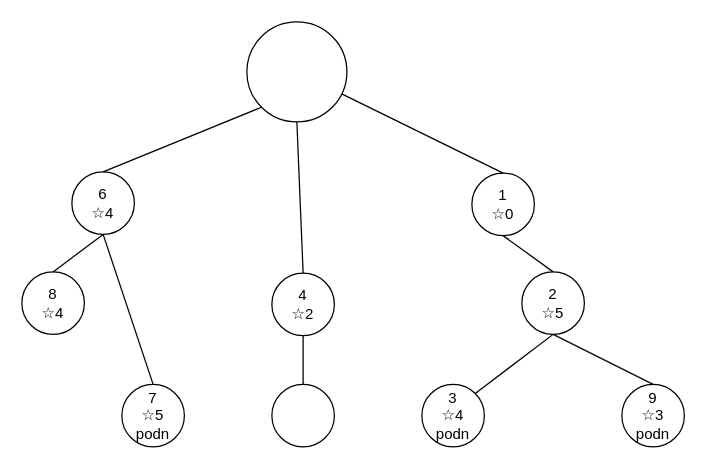
This 706x469 diagram has some shape labels left out. The box of each missing label's shape, as (x1, y1, x2, y2) in pixels:
5 ☆1 podn: (271, 383, 334, 447)
szczyt: (246, 21, 347, 122)
